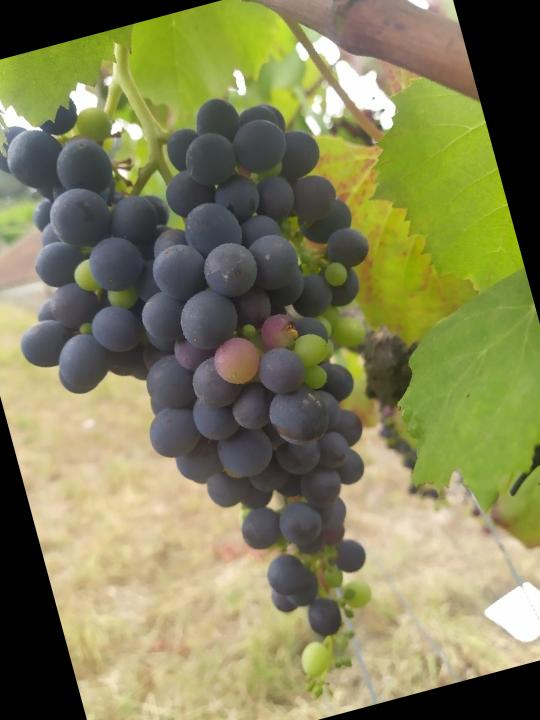grape: (0, 29, 481, 720)
